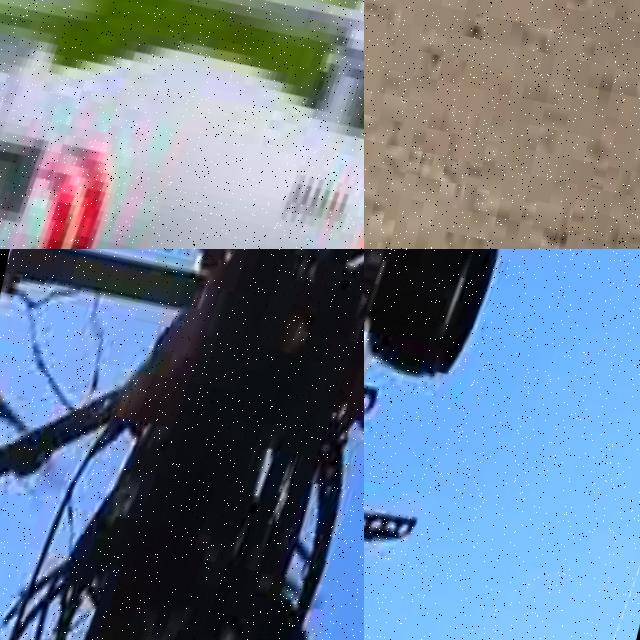drone: (0, 249, 364, 640), (364, 249, 640, 640), (0, 0, 364, 249)
